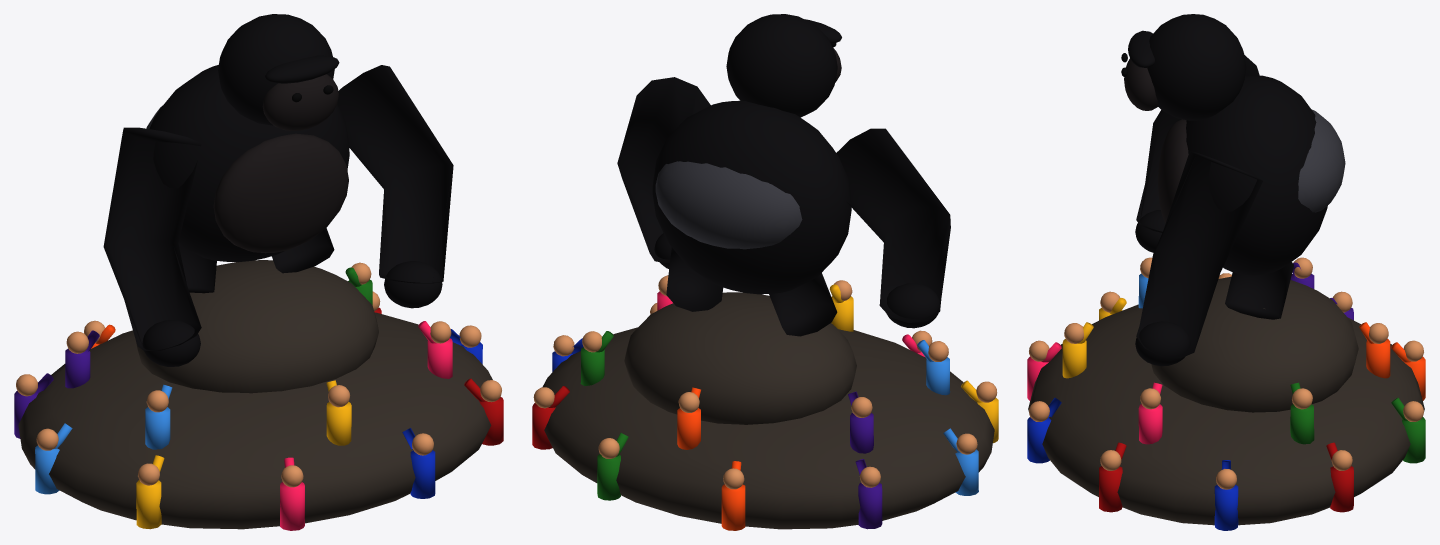
File: HundredMenGorilla.fbx
3 views of the same model, side by side, from view 1: azimuth 30°, elevation 25°; view 2: azimuth 150°, elevation 25°; view 3: azimuth 270°, elevation 25° (orthographic). The views are drawn at different scales.
Visible parts, largest first — view 1: HundredMenGorilla; view 2: HundredMenGorilla; view 3: HundredMenGorilla.
Part boxes in pixels (<box>): HundredMenGorilla: <box>14,14,503,530</box>; HundredMenGorilla: <box>532,14,998,530</box>; HundredMenGorilla: <box>1027,14,1425,530</box>.
Size of the model in its own units: 3.68 by 3.75 by 3.01.
1 material, 1 textured.
